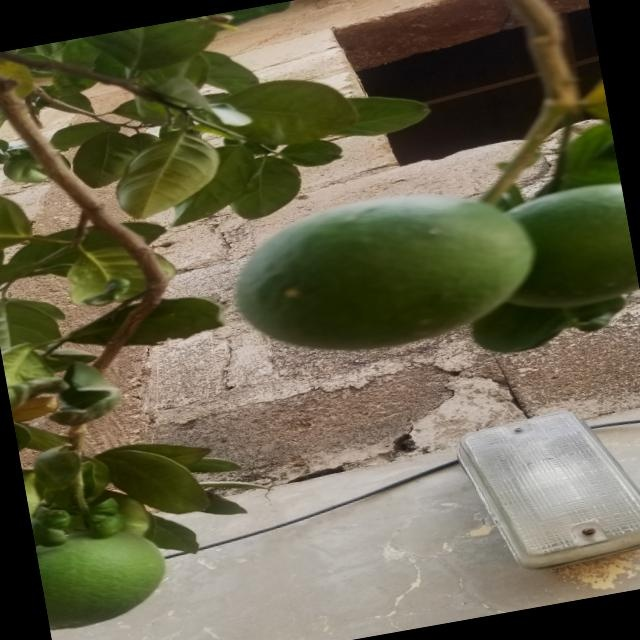agrume: (204, 166, 544, 382), (481, 155, 640, 337), (32, 508, 186, 640)
